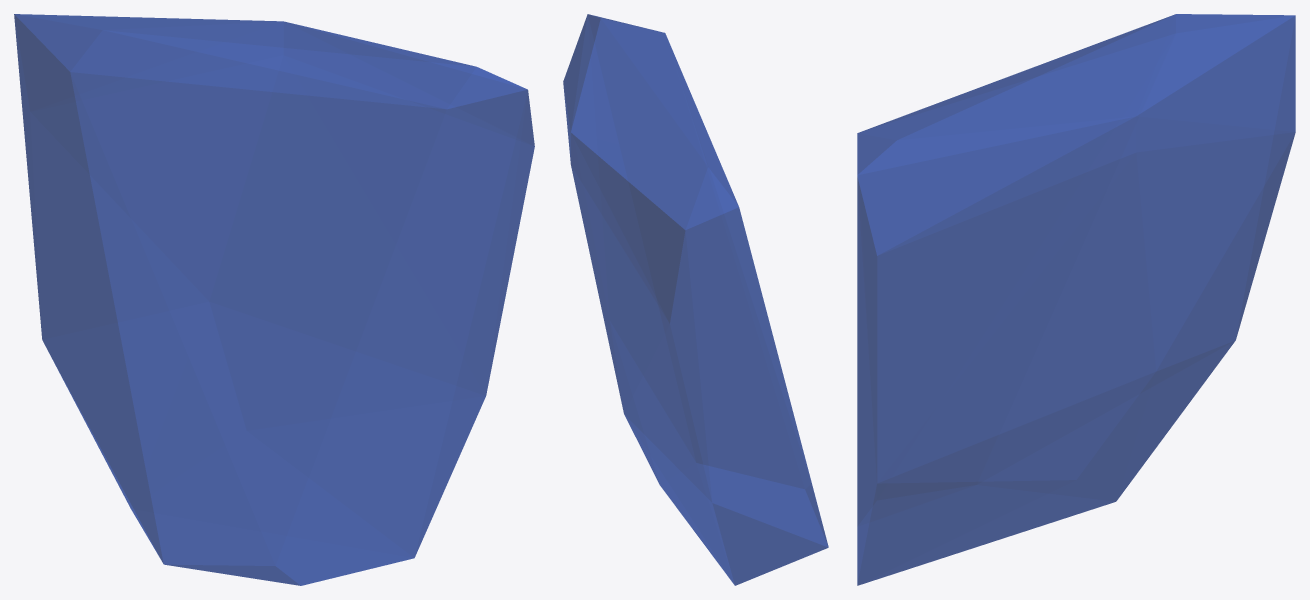
3 renders of one model, left to right at view 1: azimuth 30°, elevation 25°; view 2: azimuth 150°, elevation 25°; view 3: azimuth 270°, elevation 25°, orthographic. The views are drawn at different scales.
Parts seen in each view (by area): view 1: Shape_IndexedFaceSet.019_Shape_IndexedFaceSet.11440; view 2: Shape_IndexedFaceSet.019_Shape_IndexedFaceSet.11440; view 3: Shape_IndexedFaceSet.019_Shape_IndexedFaceSet.11440.
Part boxes in pixels (x1=…): Shape_IndexedFaceSet.019_Shape_IndexedFaceSet.11440: x1=14, y1=14, x2=534, y2=585; Shape_IndexedFaceSet.019_Shape_IndexedFaceSet.11440: x1=563, y1=14, x2=828, y2=585; Shape_IndexedFaceSet.019_Shape_IndexedFaceSet.11440: x1=857, y1=14, x2=1295, y2=585.
Bounding box in the file's own units: 0.0374 × 0.0505 × 0.0412.
